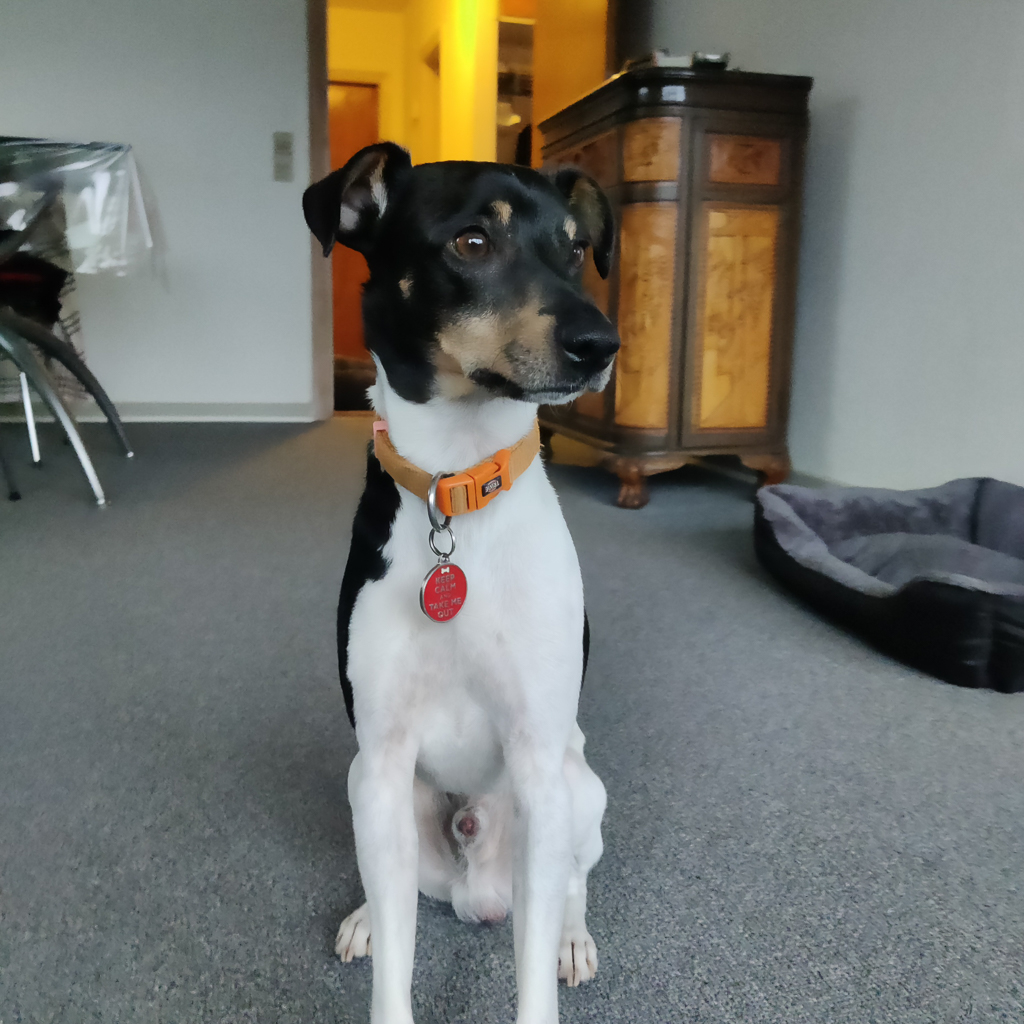Dog: (279, 133, 651, 1024)
